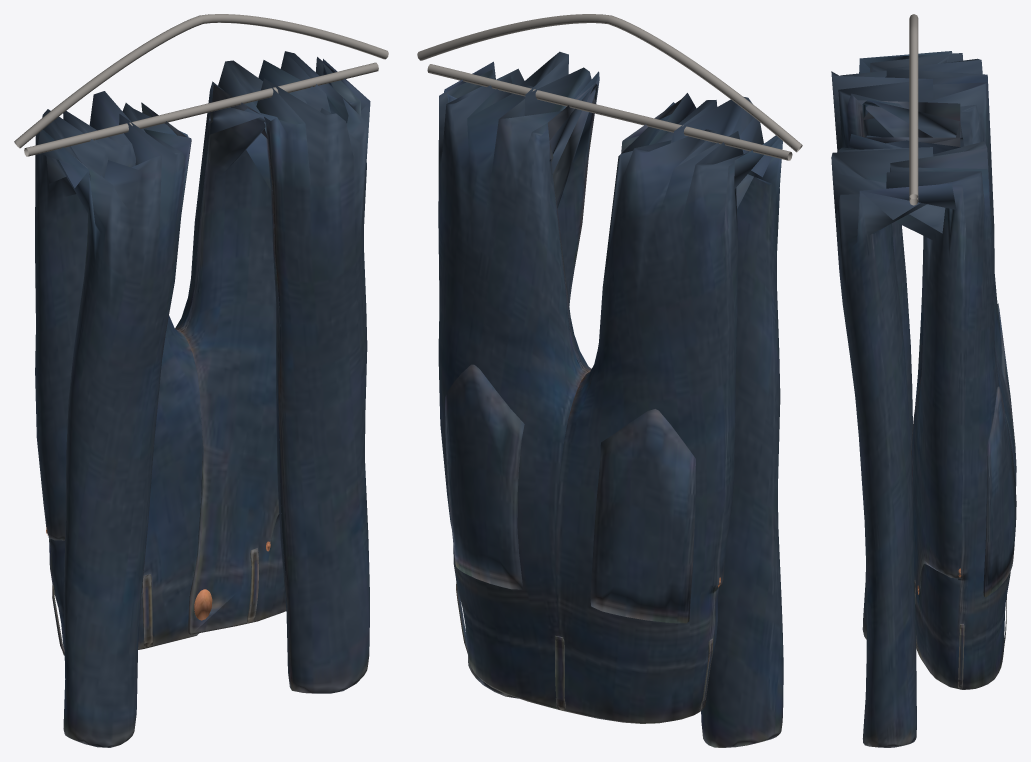
The model's file is pants_jeans.glb.
3 views of the same model, side by side, from view 1: azimuth 30°, elevation 25°; view 2: azimuth 150°, elevation 25°; view 3: azimuth 270°, elevation 25° (orthographic). The views are drawn at different scales.
Parts seen in each view (by area): view 1: pants_jeans_cloth, pants_jeans_hanger; view 2: pants_jeans_cloth, pants_jeans_hanger; view 3: pants_jeans_cloth, pants_jeans_hanger.
Part boxes in pixels (box(x1,y1,x2,y2)): pants_jeans_cloth: box(35, 51, 370, 747); pants_jeans_hanger: box(14, 14, 388, 156); pants_jeans_cloth: box(438, 51, 783, 747); pants_jeans_hanger: box(417, 14, 802, 160); pants_jeans_cloth: box(831, 51, 1016, 747); pants_jeans_hanger: box(909, 14, 918, 205).
Bounding box in the file's own units: 0.3373 × 0.5952 × 0.1508.
Materials: 2 (1 with a texture image).
